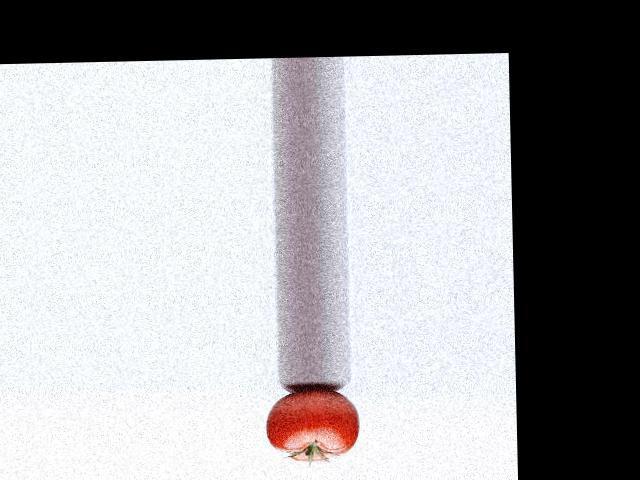tomato: (265, 388, 360, 462)
